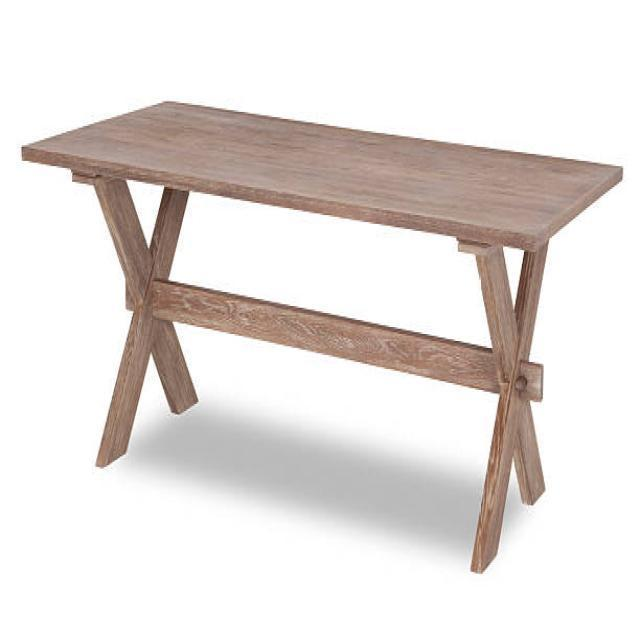table: (19, 96, 624, 574)
